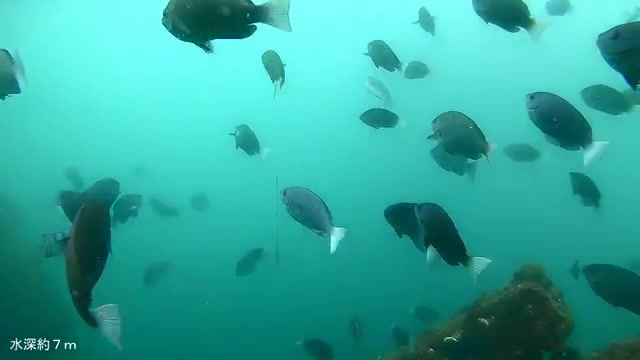smallfish: (511, 78, 615, 163), (402, 191, 499, 282), (273, 179, 354, 265), (419, 99, 491, 162), (353, 99, 420, 147), (562, 168, 612, 221), (358, 33, 408, 79)
